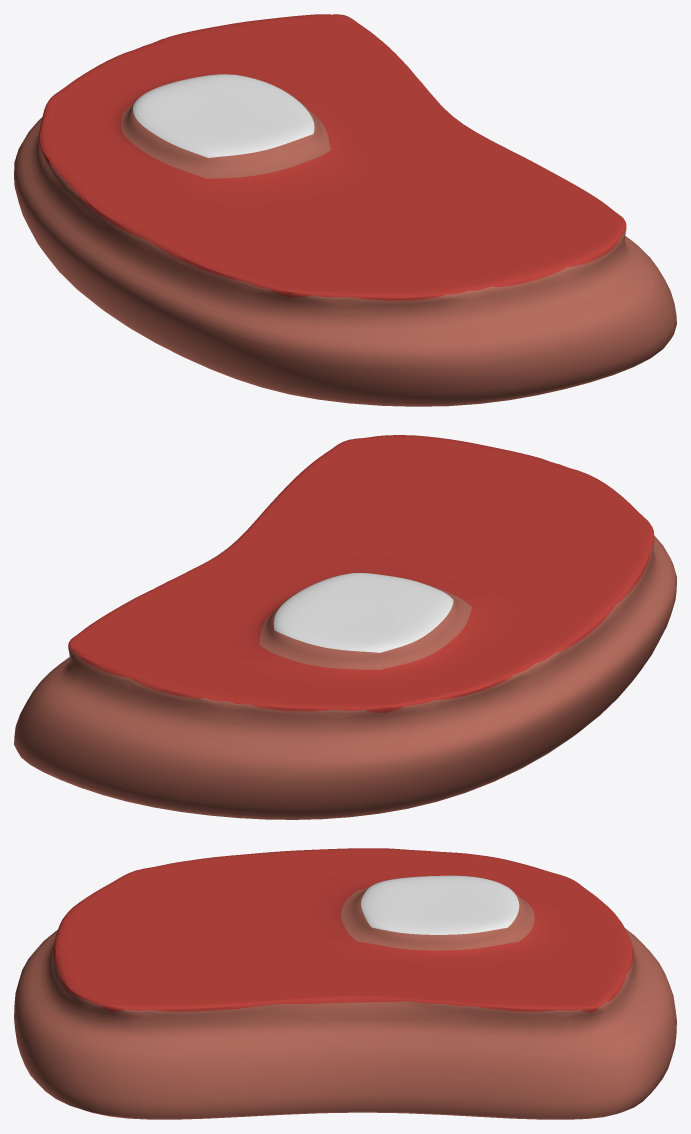
File: meat.fbx
The picture shows the model from 3 angles, top to bottom: view 1: azimuth 30°, elevation 25°; view 2: azimuth 150°, elevation 25°; view 3: azimuth 270°, elevation 25°; orthographic projection. The views are drawn at different scales.
Parts seen in each view (by area): view 1: Plane; view 2: Plane; view 3: Plane.
Boxes of the visible parts, x1,y1,x2,y2 form: Plane: (14,14,676,406); Plane: (14,435,676,819); Plane: (14,848,676,1119).
Bounding box in the file's own units: 211 × 57.89 × 312.
